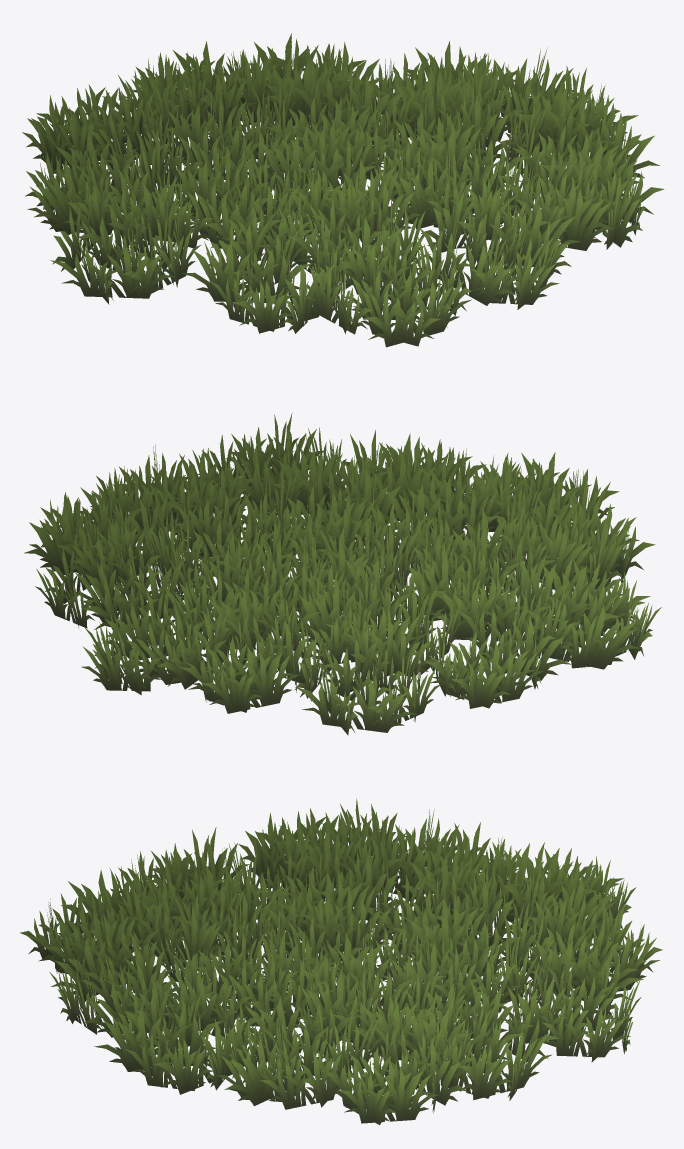
File: SM_Env_Grass_Alpine_01.fbx
3 views of the same model, one above another, from view 1: azimuth 30°, elevation 25°; view 2: azimuth 150°, elevation 25°; view 3: azimuth 270°, elevation 25° (orthographic).
Visible parts, largest first — view 1: SM_Env_Grass_Alpine_01_LOD0; view 2: SM_Env_Grass_Alpine_01_LOD0; view 3: SM_Env_Grass_Alpine_01_LOD0.
Part boxes in pixels (x1,y1,x2,y2): SM_Env_Grass_Alpine_01_LOD0: (22,33,664,347); SM_Env_Grass_Alpine_01_LOD0: (24,413,661,735); SM_Env_Grass_Alpine_01_LOD0: (20,798,662,1124).
Size of what is drawn, in the model's own units: 733 by 144 by 696.
